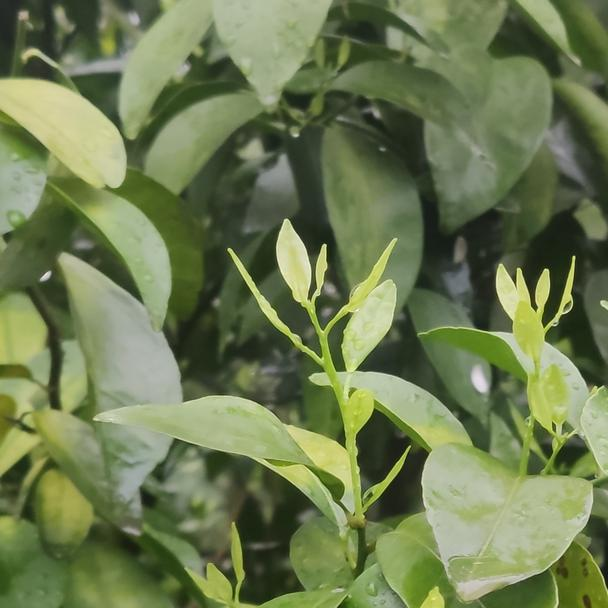shoot: (240, 227, 399, 450), (504, 260, 581, 443)
